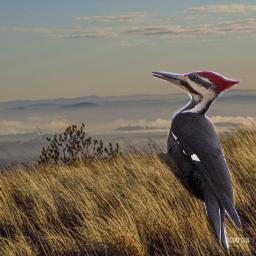Woodpecker: (148, 71, 243, 254)
